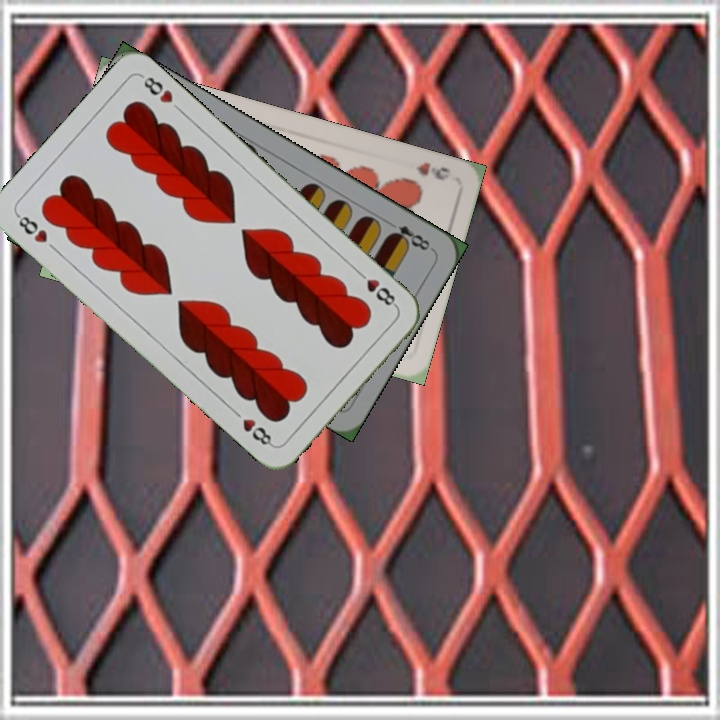E8: (382, 216, 435, 254)
H8: (352, 266, 400, 310), (12, 210, 50, 246)
H9: (412, 158, 453, 183)
